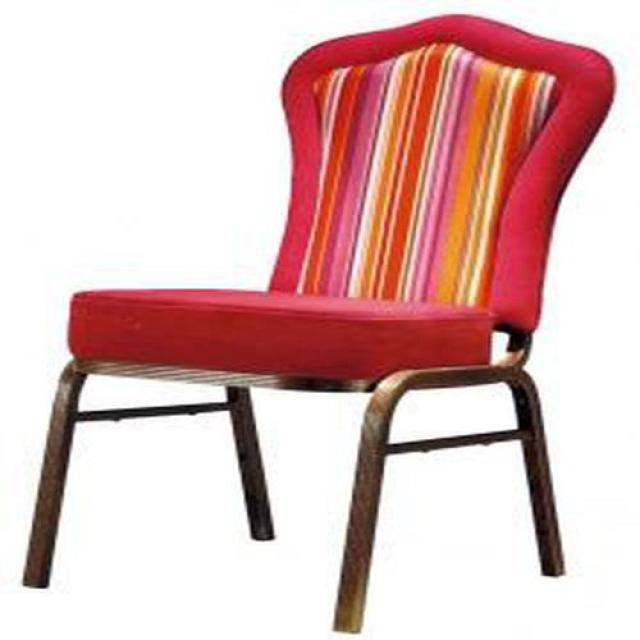chair: (22, 15, 617, 636)
